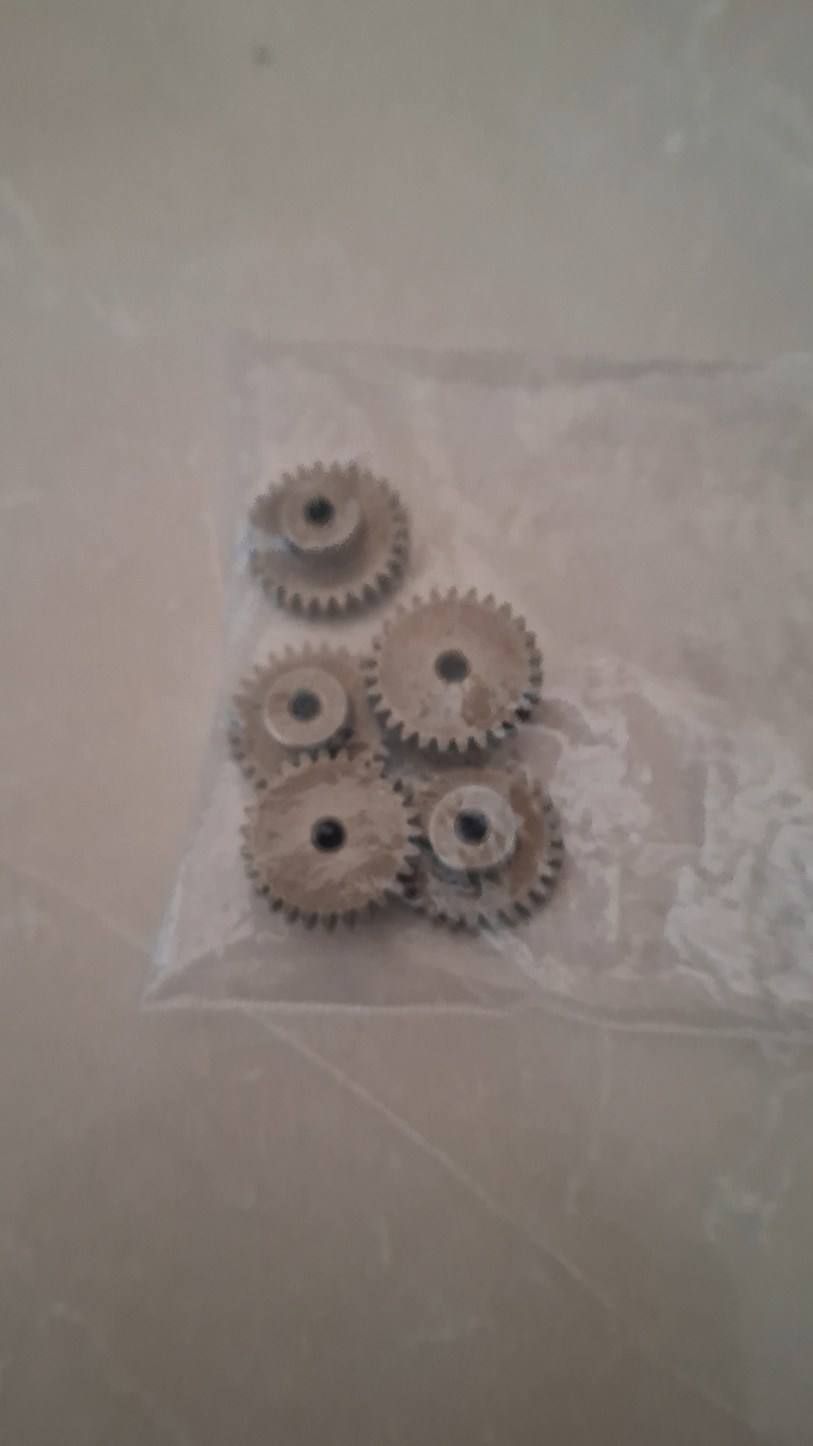spur gear: (242, 754, 417, 927), (364, 590, 542, 752), (405, 769, 563, 929), (250, 464, 408, 616), (227, 646, 378, 787)
